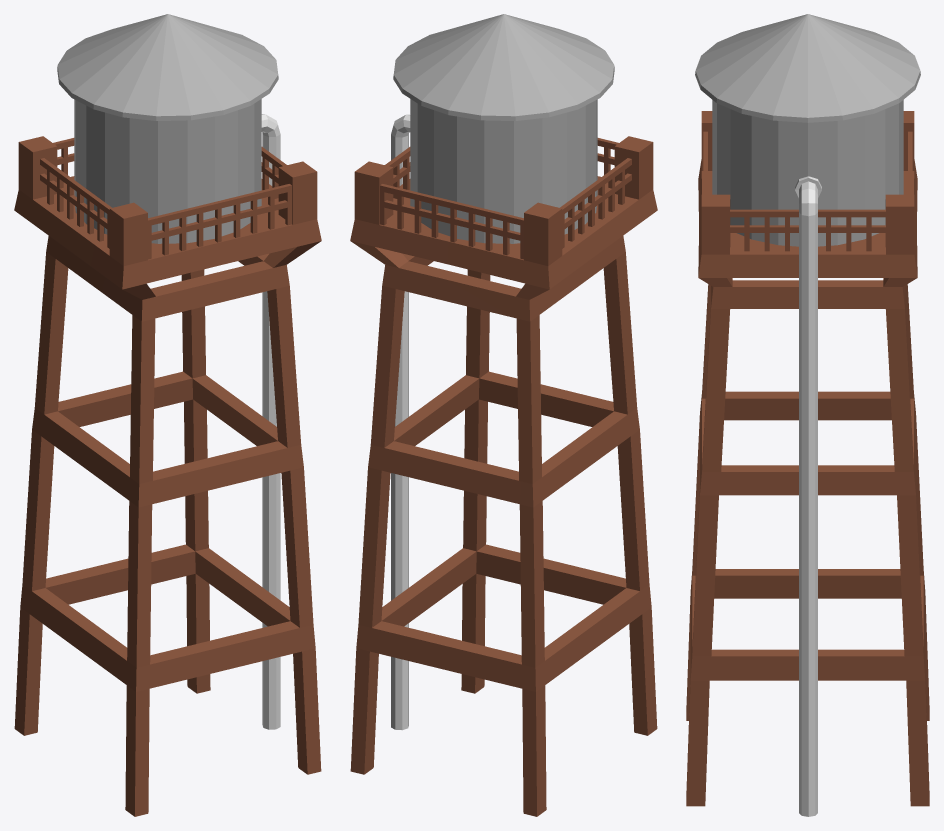
File: SM_WaterTower.fbx
3 views of the same model, side by side, from view 1: azimuth 30°, elevation 25°; view 2: azimuth 150°, elevation 25°; view 3: azimuth 270°, elevation 25° (orthographic).
Visible parts, largest first — view 1: SM_WaterTower; view 2: SM_WaterTower; view 3: SM_WaterTower.
Boxes of the visible parts, <box> form: SM_WaterTower: <box>14,14,321,816</box>; SM_WaterTower: <box>350,14,657,816</box>; SM_WaterTower: <box>686,14,929,816</box>.
Bounding box in the file's own units: 119 × 396 × 117.
